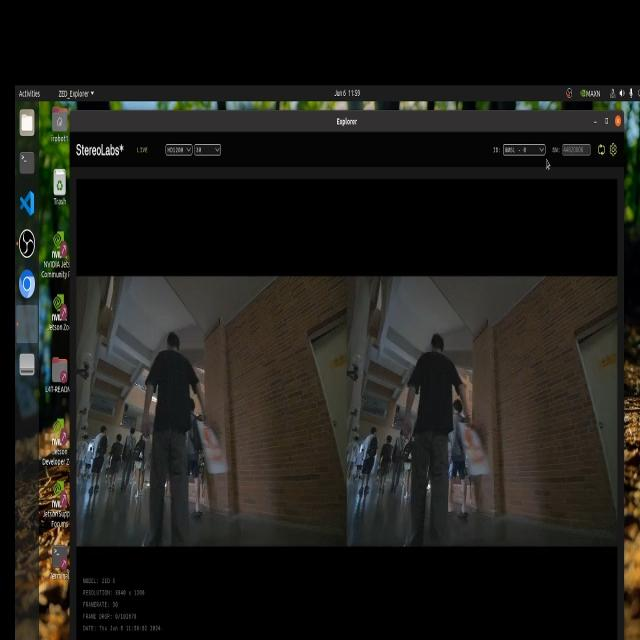red: (464, 418, 486, 472), (201, 426, 225, 470)
